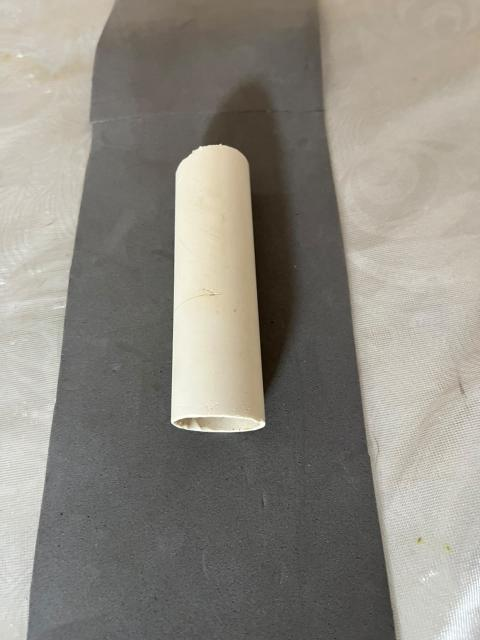PVC: (127, 112, 293, 475)
